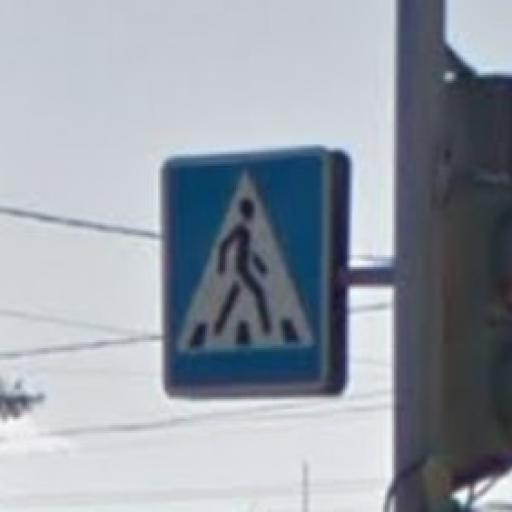traffic_sign: (161, 146, 331, 399)
